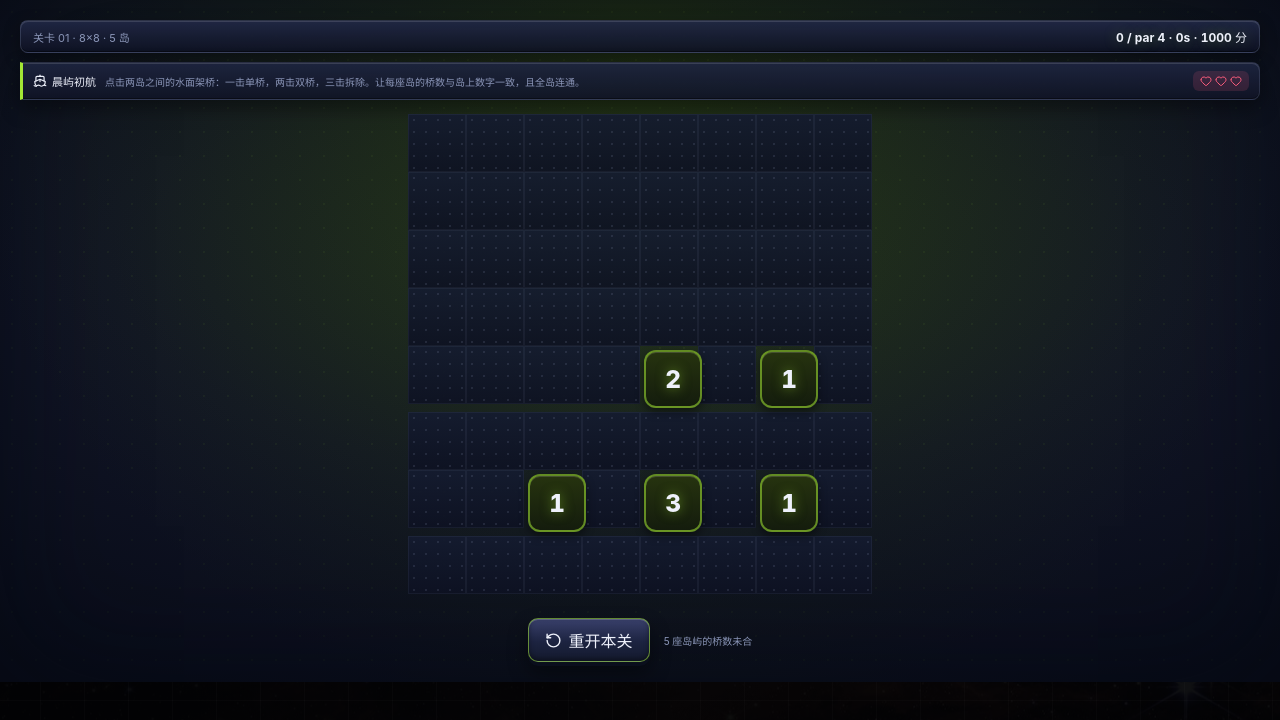
Test: bridge isles game › bridges runs toward a legal network, scores the ops and completes the archipelago
What coordinates should you click on to do the following:
click the button named "水面 38"
I would click on:
 (727, 375)
Its box is [698,346,756,404].
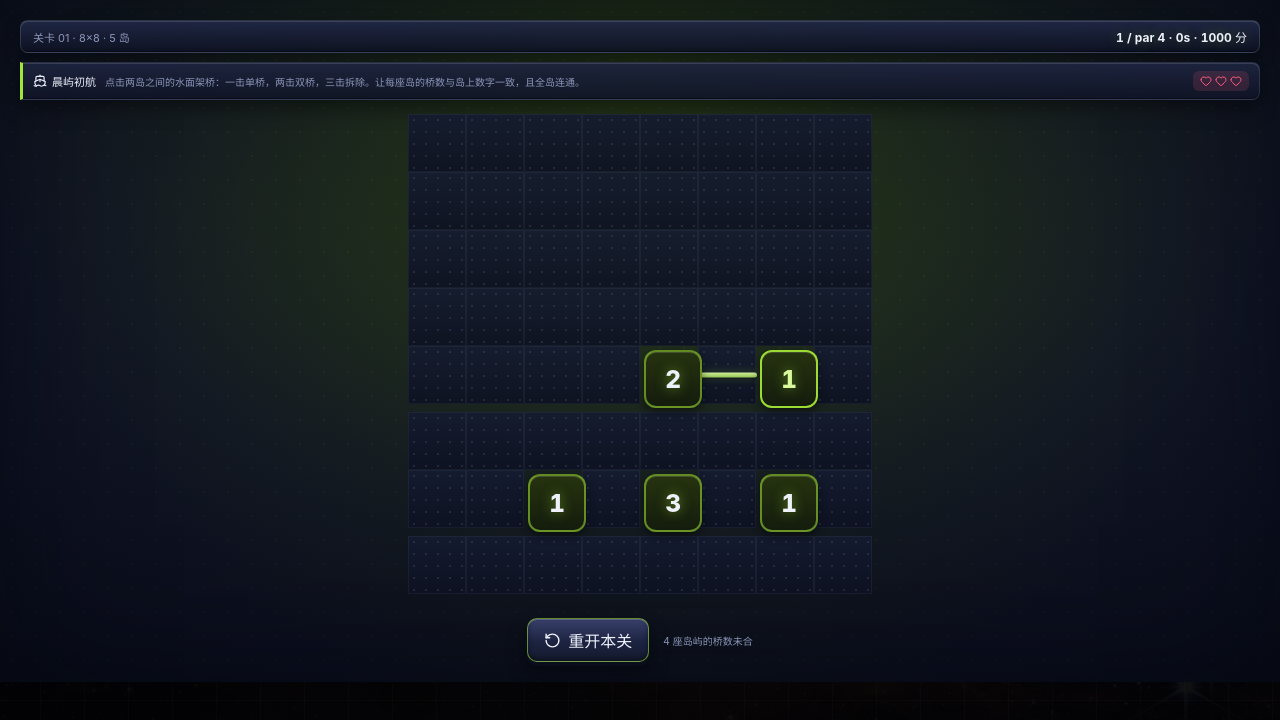
What coordinates should you click on to do the following:
click the button named "水面 52"
I would click on:
 (611, 499)
Its box is [582,470,640,528].
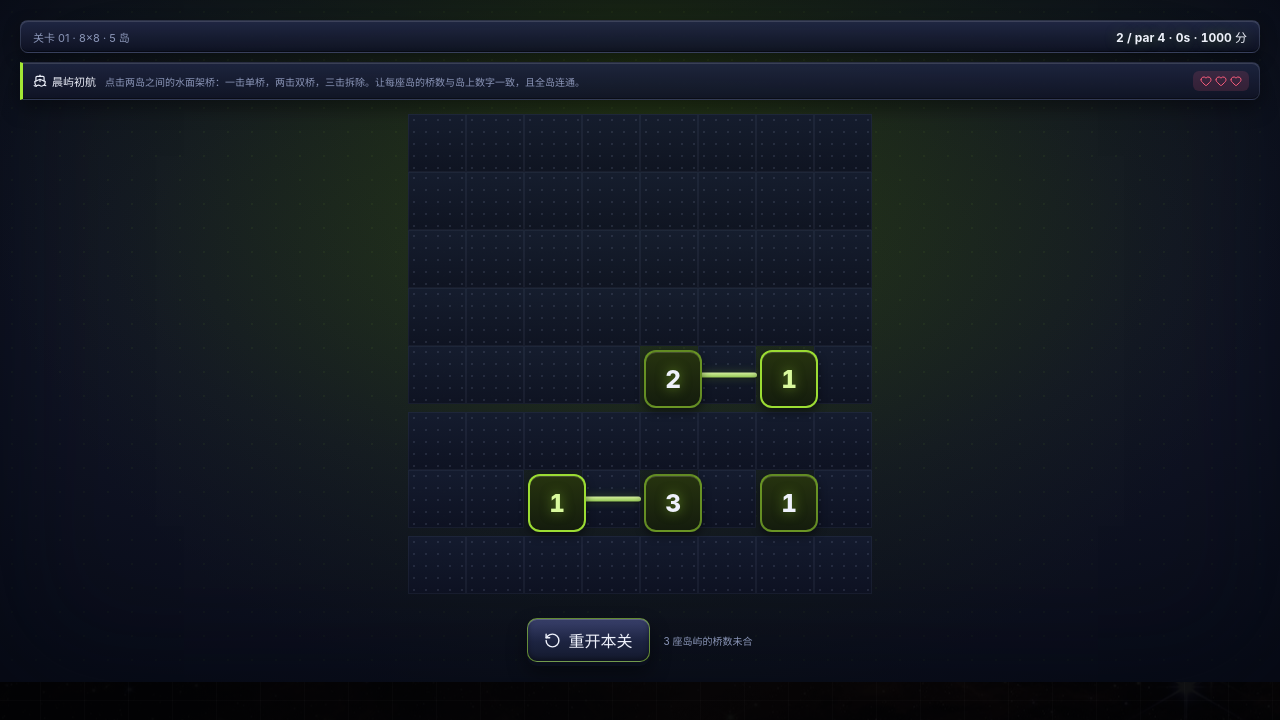
What coordinates should you click on to do the following:
click the button named "水面 54"
I would click on:
 (727, 499)
Its box is [698,470,756,528].
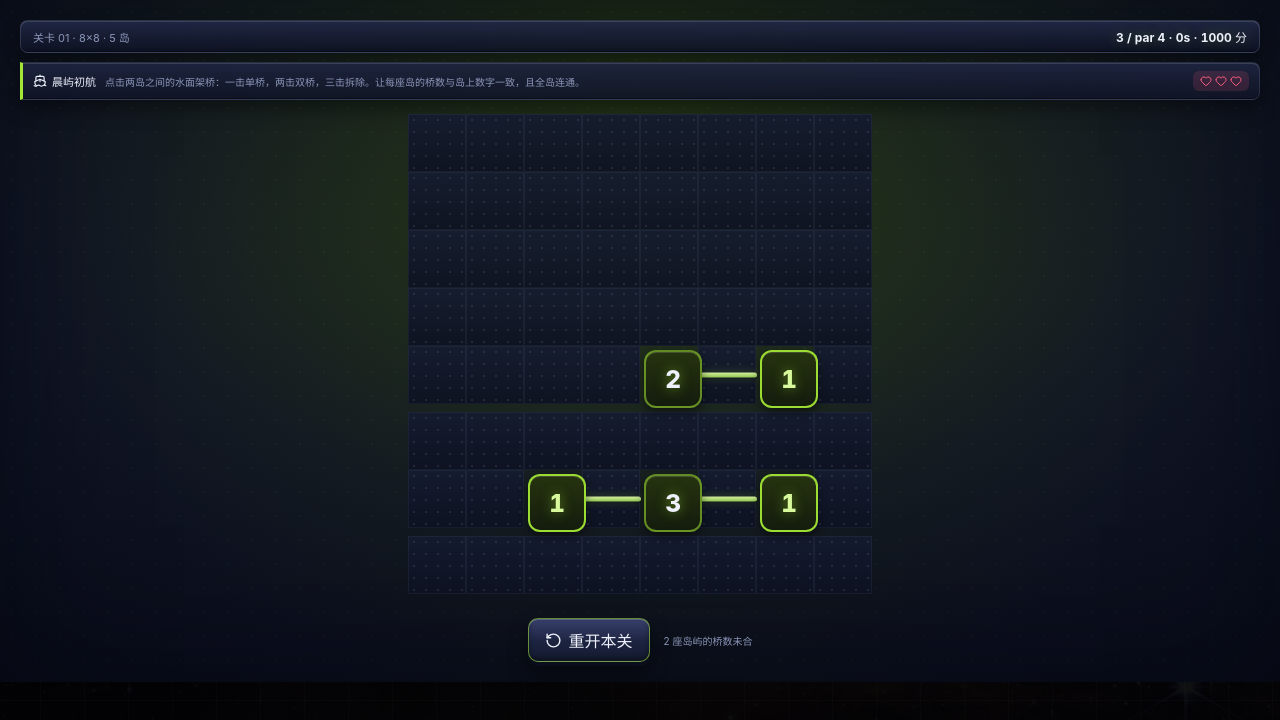
What coordinates should you click on to do the following:
click the button named "水面 45"
I would click on:
 (669, 441)
Its box is [640,412,698,470].
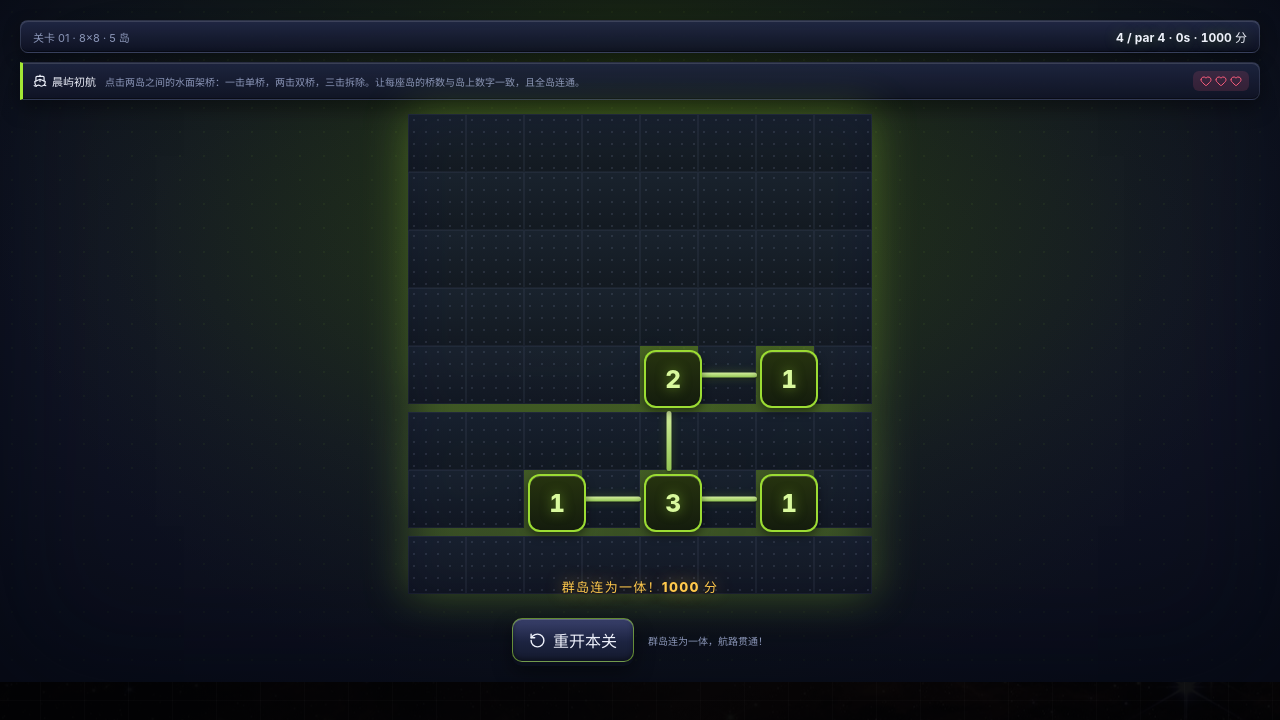
expect the text with class "is-gold" shows "群岛连为一体": met, box [562,579,662,595]
